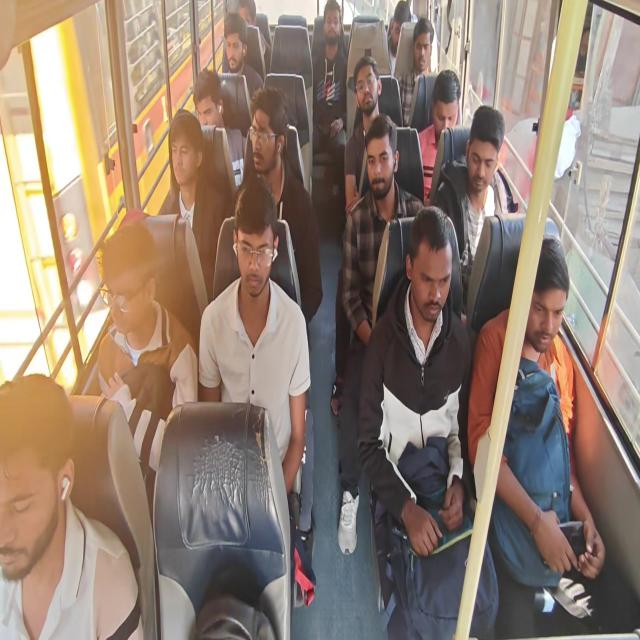person: (0, 377, 80, 569), (96, 240, 160, 358), (405, 210, 457, 328), (235, 202, 281, 299), (525, 244, 567, 349), (242, 87, 286, 179), (162, 119, 200, 191), (366, 118, 398, 189), (191, 71, 223, 133), (468, 130, 500, 192), (435, 78, 462, 134), (217, 26, 244, 74), (354, 65, 381, 110), (318, 6, 349, 45), (415, 19, 435, 71), (392, 6, 410, 58), (232, 1, 258, 34)
